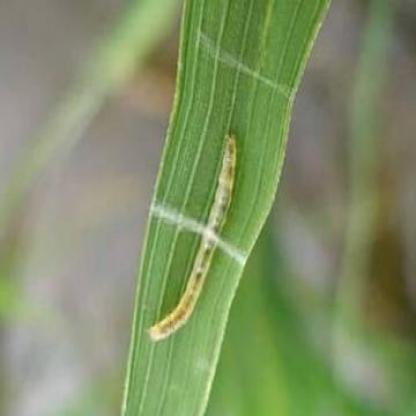leaf-folder: (143, 111, 247, 357)
